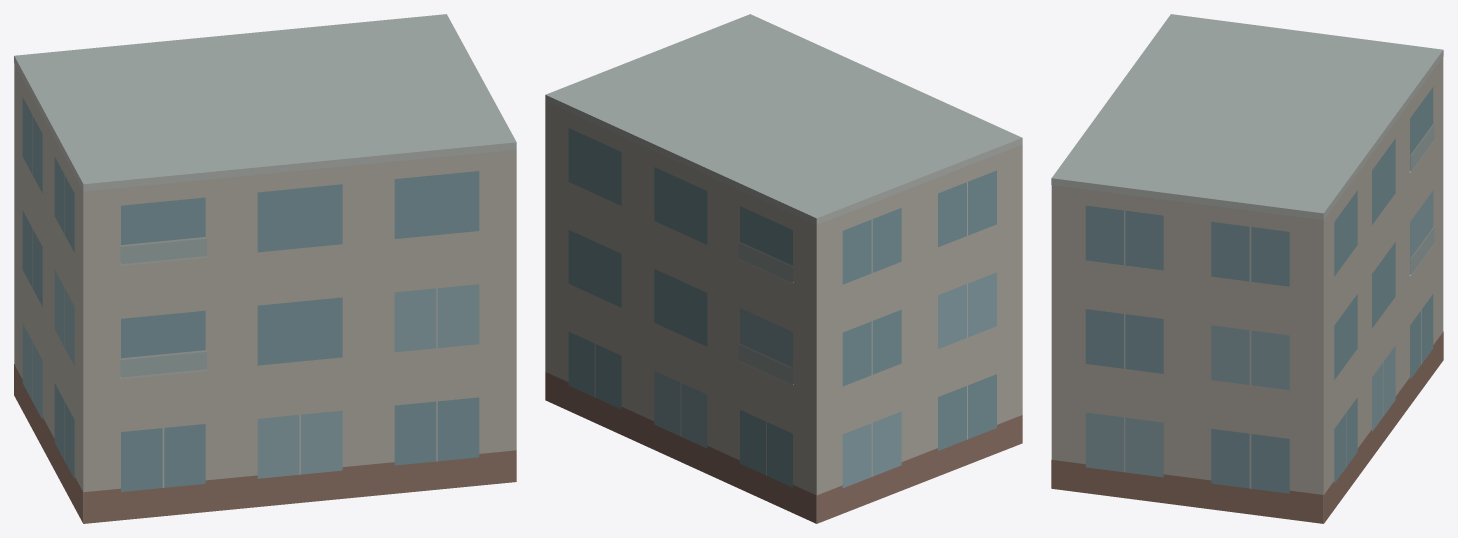
The model's file is survey-upis-32742317.glb.
The picture shows the model from 3 angles, left to right: view 1: azimuth 30°, elevation 25°; view 2: azimuth 150°, elevation 25°; view 3: azimuth 270°, elevation 25°; orthographic projection. The views are drawn at different scales.
Parts seen in each view (by area): view 1: survey-upis-32742317.tmp; view 2: survey-upis-32742317.tmp; view 3: survey-upis-32742317.tmp.
Boxes of the visible parts, bbox=[...] form: survey-upis-32742317.tmp: bbox=[14, 14, 516, 523]; survey-upis-32742317.tmp: bbox=[545, 14, 1022, 523]; survey-upis-32742317.tmp: bbox=[1051, 14, 1443, 523].
Size of the model in its own units: 15.44 by 11.2 by 12.83.
